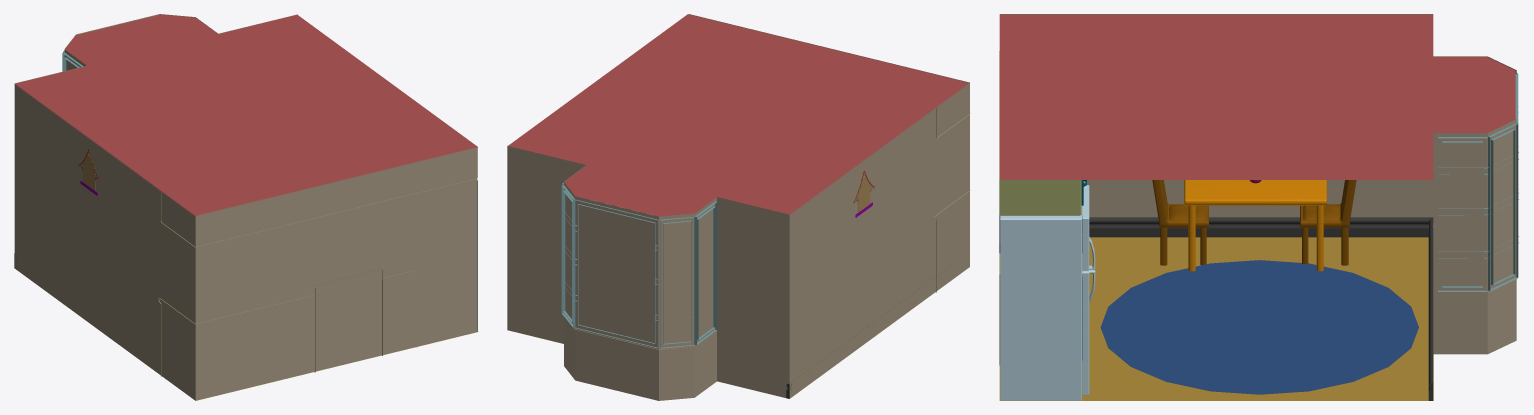
Rendered from Cuckoo Clock Model FBX 2.fbx.
The picture shows the model from 3 angles, left to right: view 1: azimuth 30°, elevation 25°; view 2: azimuth 150°, elevation 25°; view 3: azimuth 270°, elevation 25°; orthographic projection. The views are drawn at different scales.
Visible parts, largest first — view 1: polySurface475, pPlane31, pCube251, polySurface1255; view 2: polySurface475, pPlane31, polySurface473, polySurface1255; view 3: pPlane31, pCylinder34, polySurface475, pPlane14, polySurface375, pCube252, polySurface309, polySurface755, pCube251, polySurface473, pCube249.
Boxes of the visible parts, <box> form: polySurface475: <box>14,14,477,400</box>; pPlane31: <box>14,14,477,215</box>; pCube251: <box>158,148,477,376</box>; polySurface1255: <box>78,149,99,195</box>; polySurface475: <box>507,14,969,400</box>; pPlane31: <box>508,14,969,216</box>; polySurface473: <box>561,183,717,348</box>; polySurface1255: <box>853,171,874,217</box>; pPlane31: <box>999,14,1515,179</box>; pCylinder34: <box>1100,260,1418,394</box>; polySurface475: <box>1000,14,1517,354</box>; pPlane14: <box>999,237,1433,400</box>; polySurface375: <box>1000,185,1095,400</box>; pCube252: <box>1089,217,1432,237</box>; polySurface309: <box>1184,180,1326,271</box>; polySurface755: <box>1152,180,1356,265</box>; pCube251: <box>999,51,1085,365</box>; polySurface473: <box>1438,73,1518,291</box>; pCube249: <box>1428,217,1433,400</box>.
Bounding box in the file's own units: 54.45 × 34.03 × 72.17.
